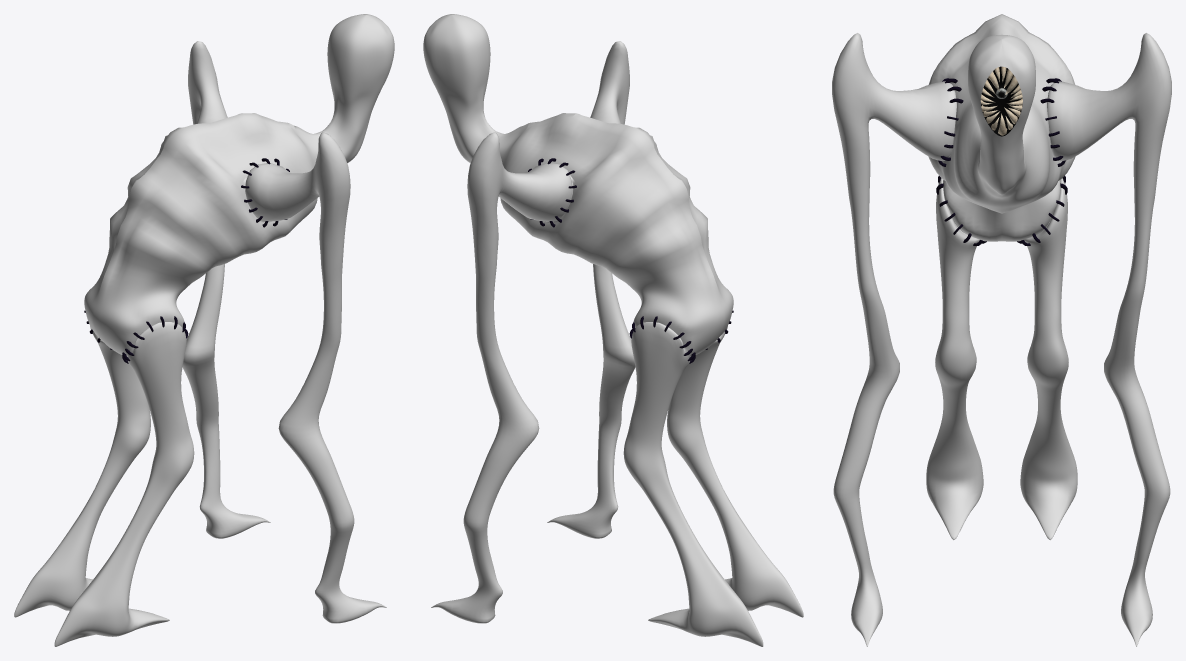
File: Mutante.fbx
3 views of the same model, side by side, from view 1: azimuth 30°, elevation 25°; view 2: azimuth 150°, elevation 25°; view 3: azimuth 270°, elevation 25° (orthographic). The views are drawn at different scales.
Visible parts, largest first — view 1: Mutante; view 2: Mutante; view 3: Mutante, Costura.006, Costura.001.
Part boxes in pixels (bbox=[...]): Mutante: bbox=[14, 14, 394, 646]; Mutante: bbox=[423, 14, 803, 646]; Mutante: bbox=[832, 14, 1171, 646]; Costura.006: bbox=[938, 78, 1065, 166]; Costura.001: bbox=[936, 176, 1067, 245].
Bounding box in the file's own units: 207 × 304 × 149.
Materials: 23 (21 with a texture image).
